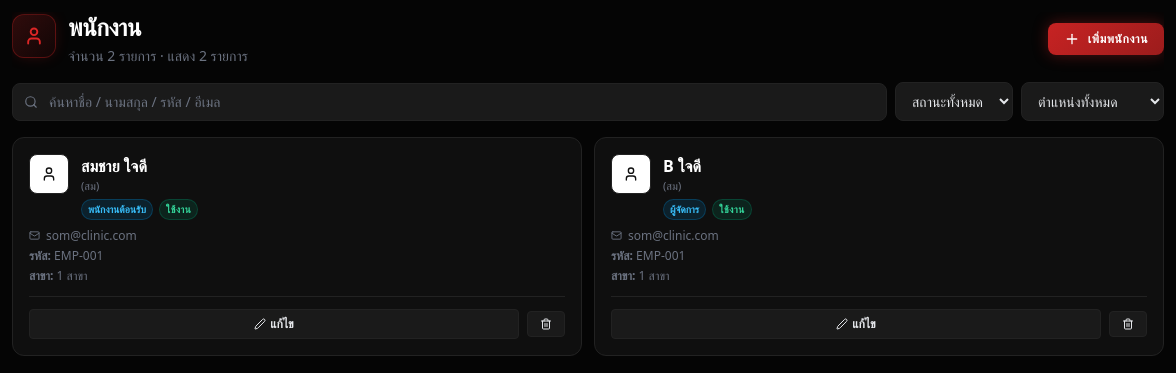
Test: StaffTab › ST4: position filter isolates
This screenshot has width=1176, height=373.
Check: the heading "สมชาย ใจดี" is shown, box [81,155,147,177]
Step 1. Select "ผู้จัดการ" in the 2nd dropdown showing "ตำแหน่งทั้งหมด" → {"x": 1092, "y": 102}, box [1021,82,1164,121]
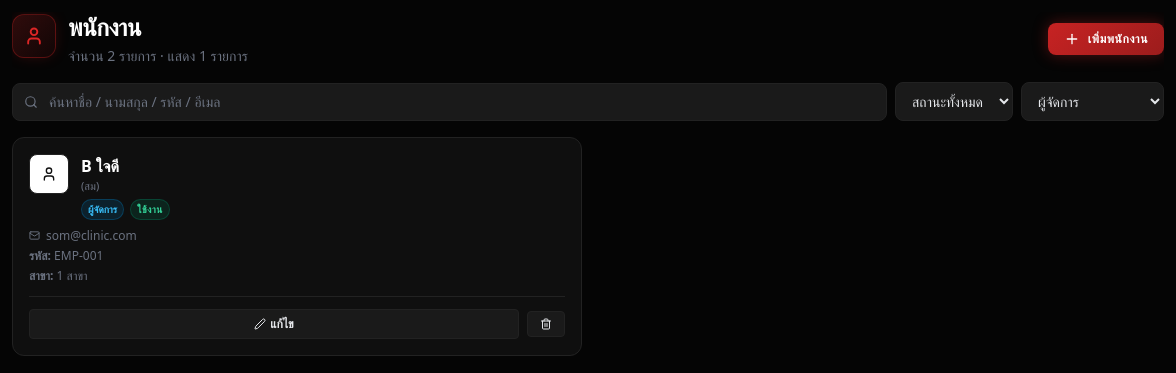
Check: the heading "สมชาย ใจดี" is gone
